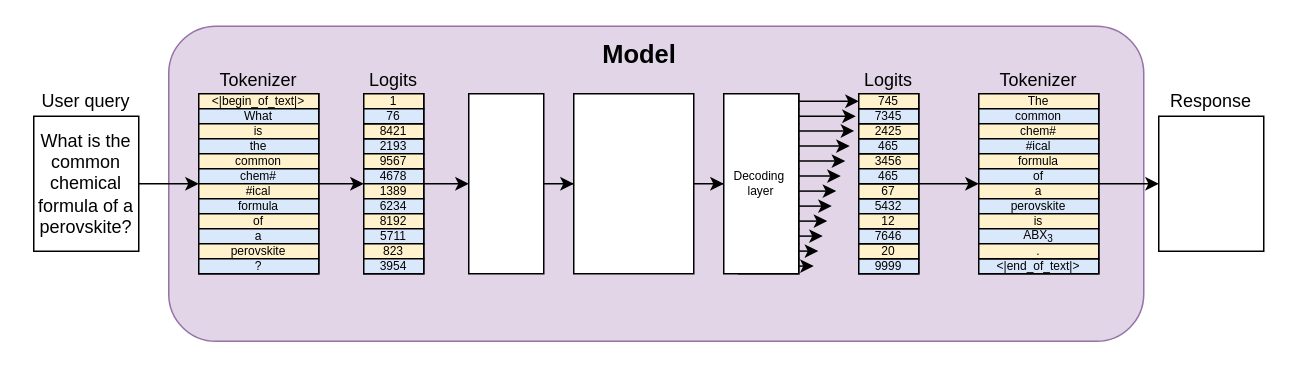
This 1296x368 diagram has some shape labels left out. Each missing label, with the centre of its shape:
Embedding Layer: the point at 505,183
Other layers: the point at 633,183
The common chemical formula of a perovskite is ABX 3 .: the point at 1210,183
